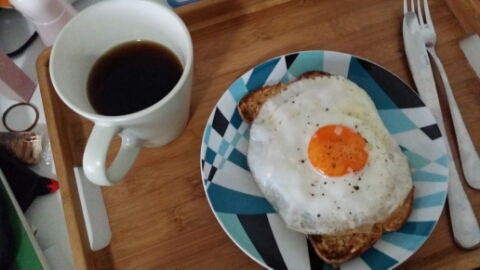fried egg: (251, 90, 409, 220)
